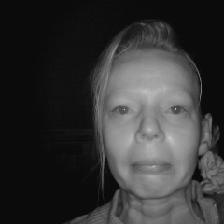sad: (84, 19, 218, 201)
